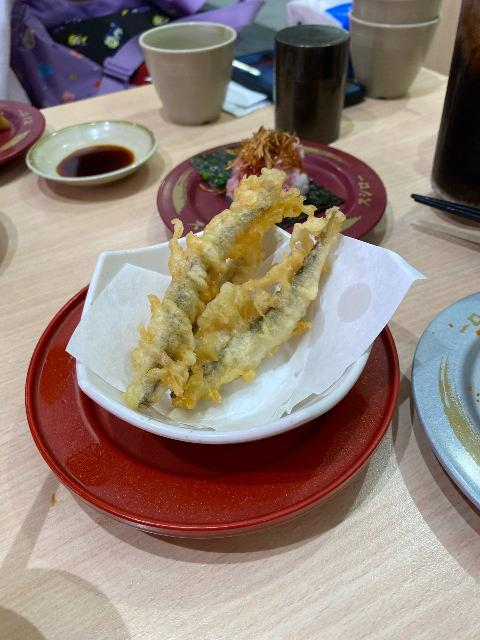janred: (32, 258, 400, 506), (124, 121, 396, 261), (412, 297, 480, 562), (0, 86, 35, 156)
